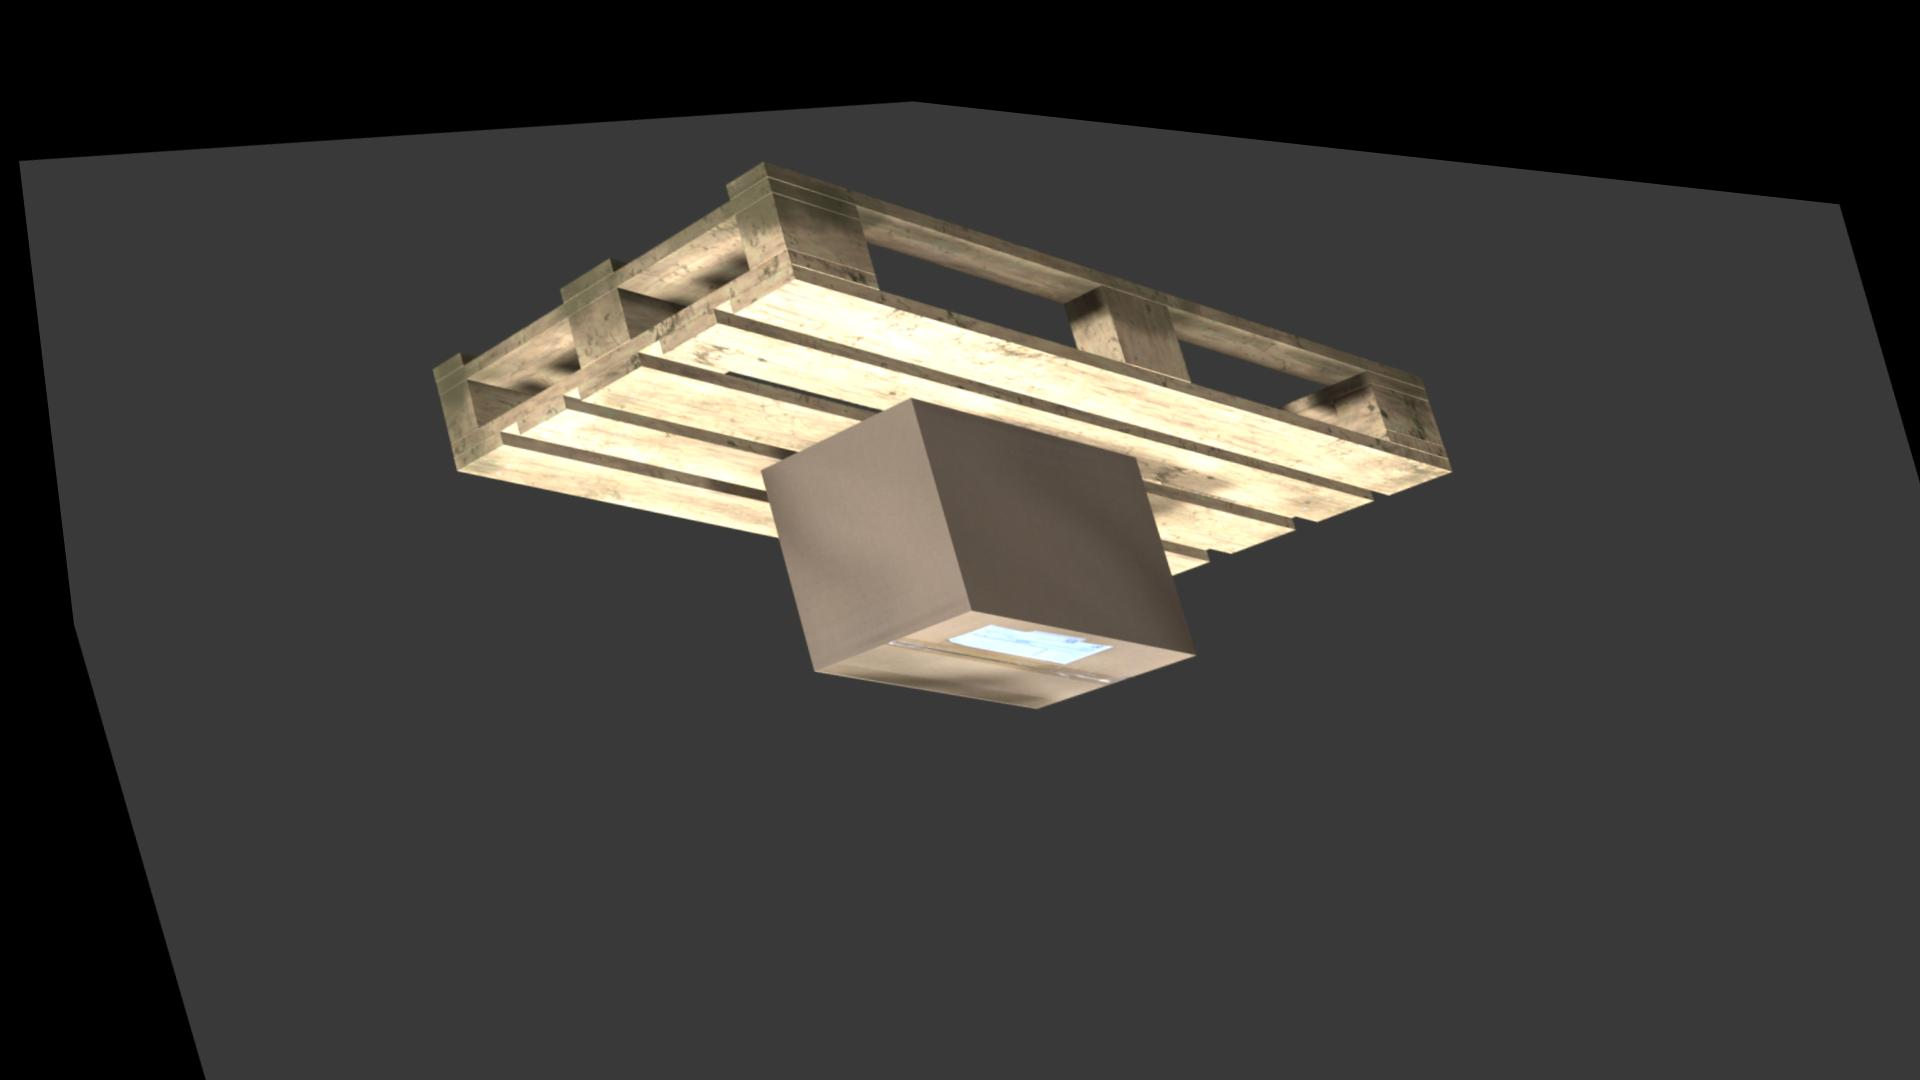group_box_top: (802, 589, 1182, 687)
palet: (419, 137, 1445, 551)
tablet_left: (752, 377, 1180, 653)
